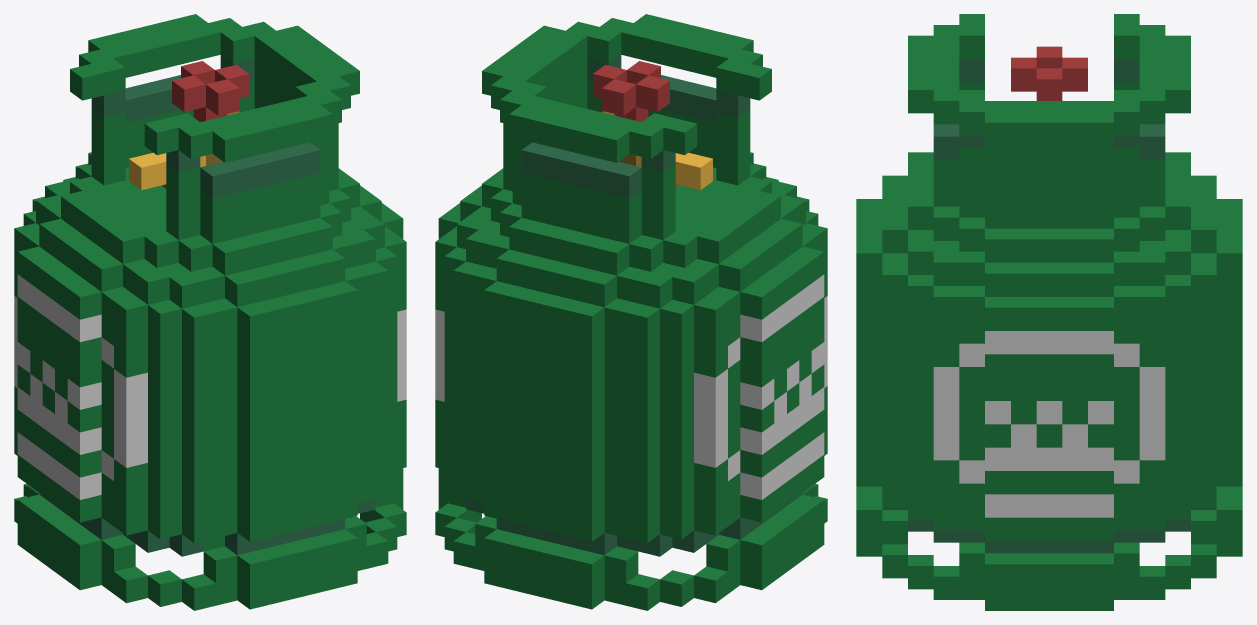
File: GAS.fbx
3 views of the same model, side by side, from view 1: azimuth 30°, elevation 25°; view 2: azimuth 150°, elevation 25°; view 3: azimuth 270°, elevation 25° (orthographic). The views are drawn at different scales.
Visible parts, largest first — view 1: GAS:GAS; view 2: GAS:GAS; view 3: GAS:GAS.
Boxes of the visible parts, x1=… form: GAS:GAS: x1=14, y1=14, x2=406, y2=610; GAS:GAS: x1=435, y1=14, x2=827, y2=610; GAS:GAS: x1=856, y1=14, x2=1242, y2=610.
Size of the model in its own units: 15 by 20 by 15.
